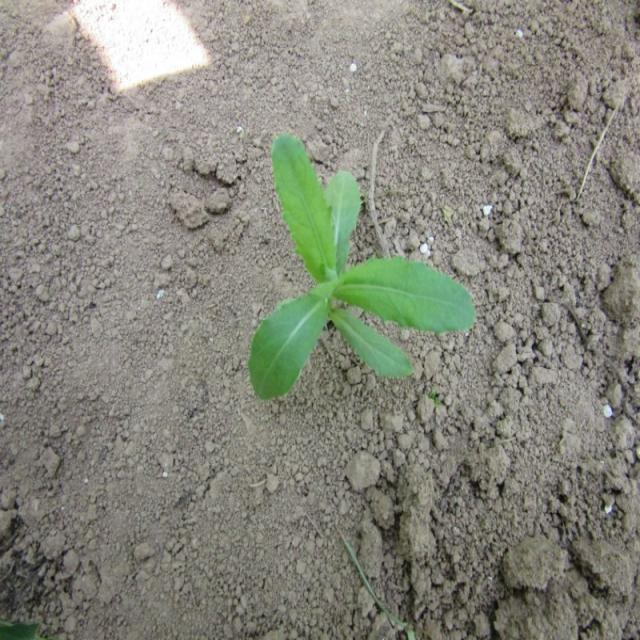field_thistle: (212, 122, 486, 402)
